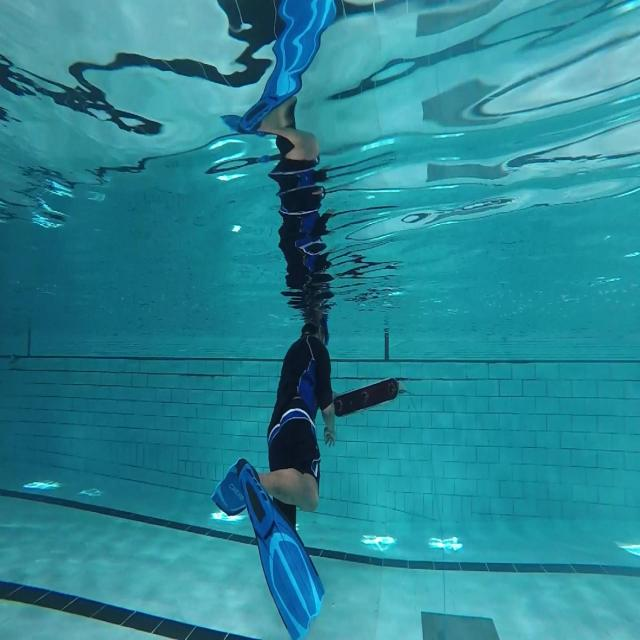human: (211, 307, 336, 532)
